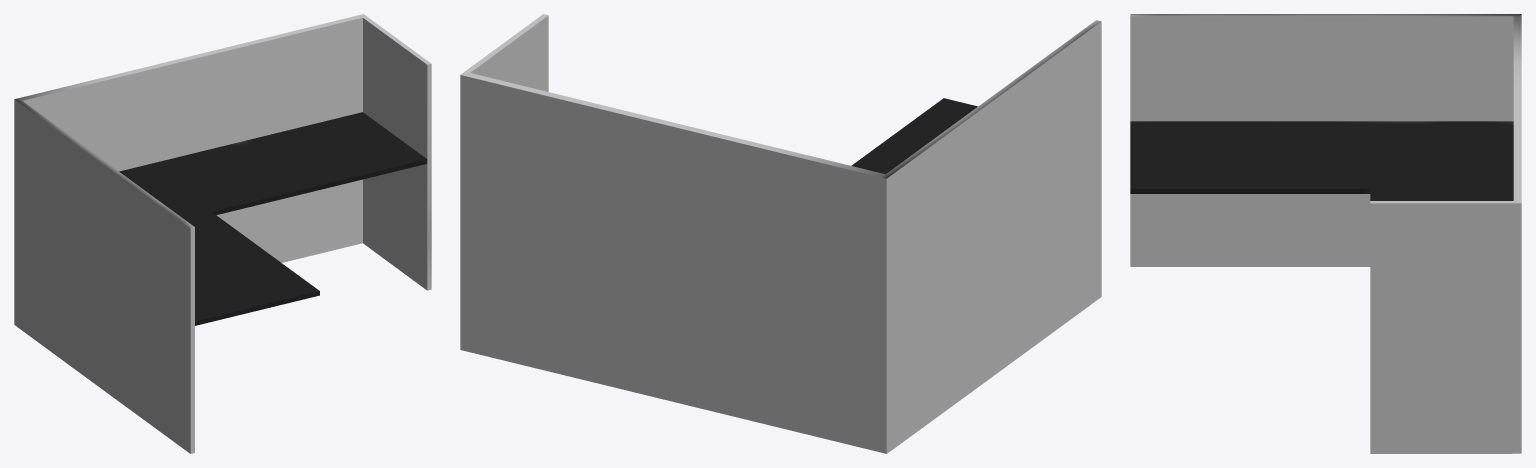
The model's file is deskcorner.fbx.
3 views of the same model, side by side, from view 1: azimuth 30°, elevation 25°; view 2: azimuth 150°, elevation 25°; view 3: azimuth 270°, elevation 25° (orthographic). The views are drawn at different scales.
Visible parts, largest first — view 1: DeskCorner; view 2: DeskCorner; view 3: DeskCorner.
Part boxes in pixels (x1=…): DeskCorner: x1=14, y1=14, x2=431, y2=453; DeskCorner: x1=460, y1=14, x2=1101, y2=453; DeskCorner: x1=1130, y1=14, x2=1521, y2=453.
Size of the model in its own units: 475 by 293 by 415.
